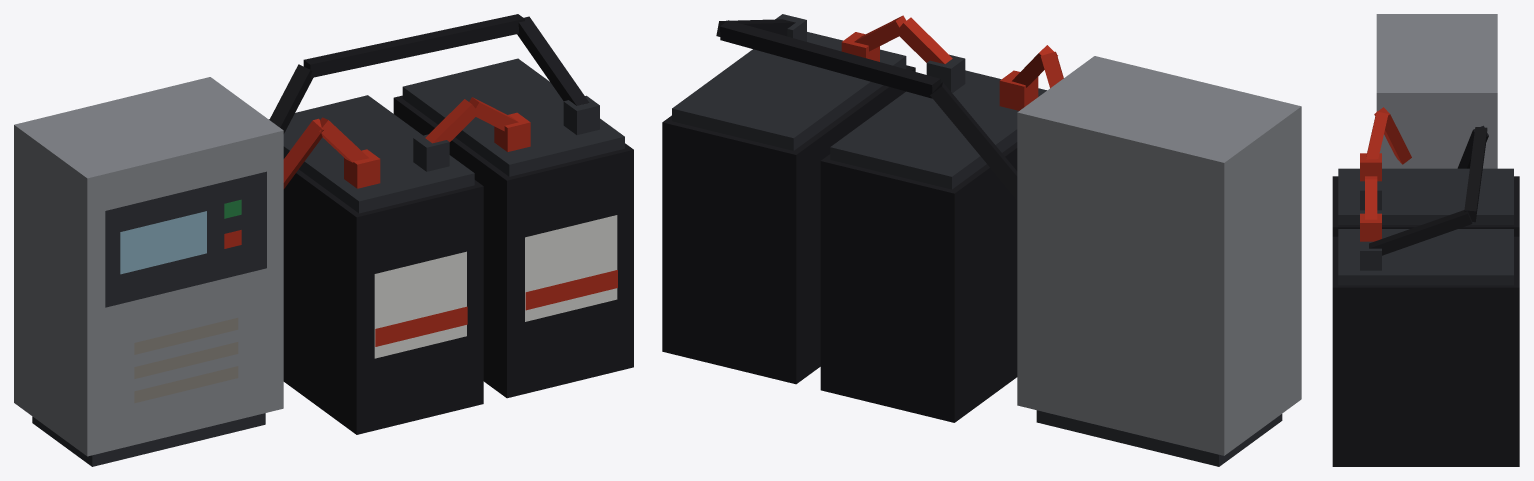
The model's file is prop_inverter.glb.
3 views of the same model, side by side, from view 1: azimuth 30°, elevation 25°; view 2: azimuth 150°, elevation 25°; view 3: azimuth 270°, elevation 25° (orthographic). The views are drawn at different scales.
Parts seen in each view (by area): view 1: body; view 2: body; view 3: body.
Boxes of the visible parts, x1=… form: body: x1=14, y1=14, x2=633, y2=466; body: x1=662, y1=14, x2=1301, y2=466; body: x1=1332, y1=14, x2=1519, y2=466.
Size of the model in its own units: 0.9 by 0.4916 by 0.344.
